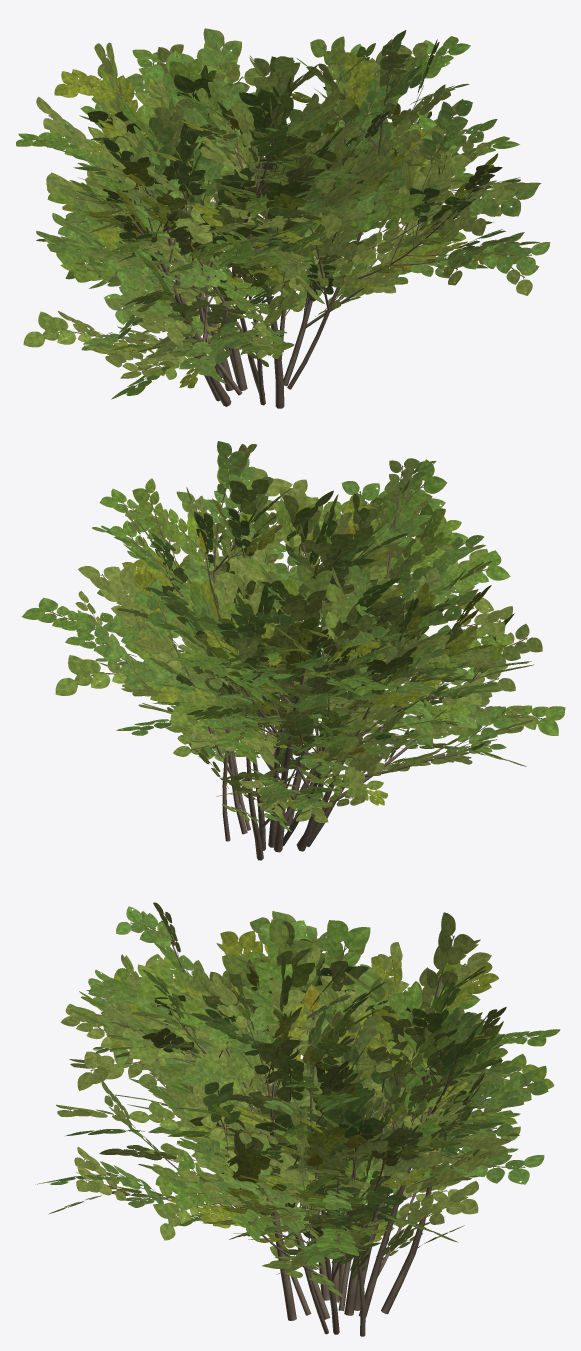
File: liska_2.glb
3 renders of one model, top to bottom at view 1: azimuth 30°, elevation 25°; view 2: azimuth 150°, elevation 25°; view 3: azimuth 270°, elevation 25°, orthographic. The views are drawn at different scales.
Parts seen in each view (by area): view 1: liska_2; view 2: liska_2; view 3: liska_2.
Part boxes in pixels (x1,y1,x2,y2): liska_2: [16, 28, 550, 408]; liska_2: [22, 441, 565, 860]; liska_2: [35, 902, 560, 1336].
Bounding box in the file's own units: 4.45 × 3.09 × 3.94.
Materials: 2 (2 with a texture image).
